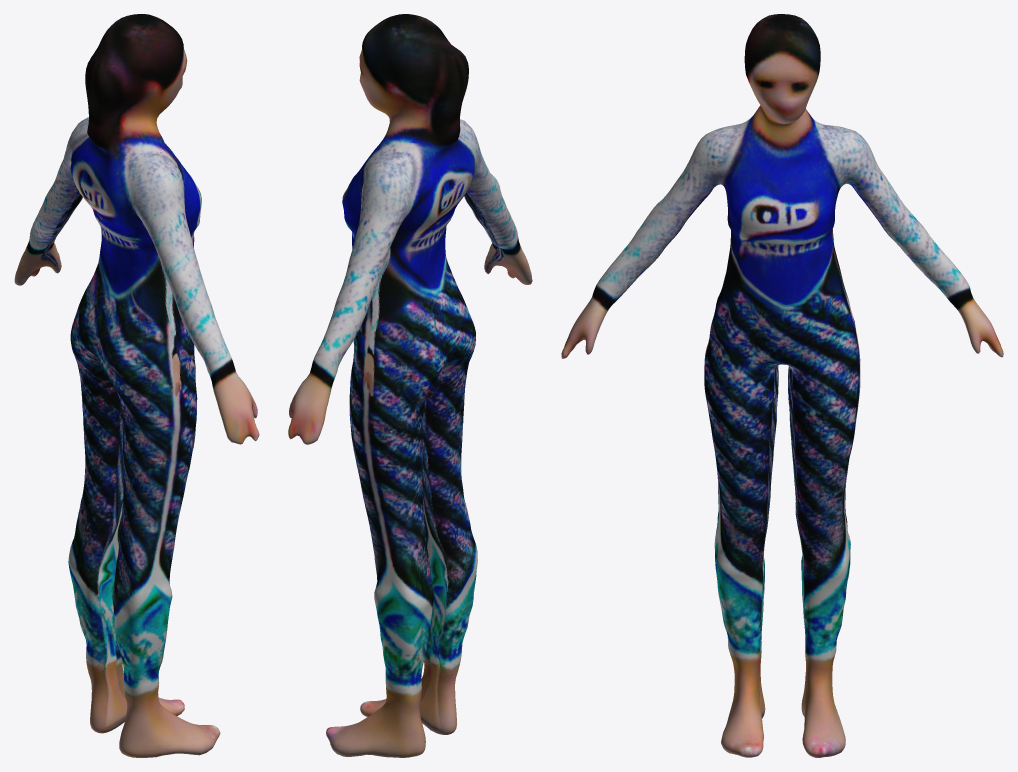
Rendered from 234c159cdf47_NPC_Wearing_Women_s.obj.
3 renders of one model, left to right at view 1: azimuth 30°, elevation 25°; view 2: azimuth 150°, elevation 25°; view 3: azimuth 270°, elevation 25°, orthographic.
Visible parts, largest first — view 1: mesh; view 2: mesh; view 3: mesh.
Part boxes in pixels (bbox=[...]): mesh: bbox=[14, 14, 259, 757]; mesh: bbox=[288, 14, 532, 757]; mesh: bbox=[561, 14, 1003, 757].
Size of the model in its own units: 0.1657 by 0.9997 by 0.5586.
Materials: 1 (1 with a texture image).
